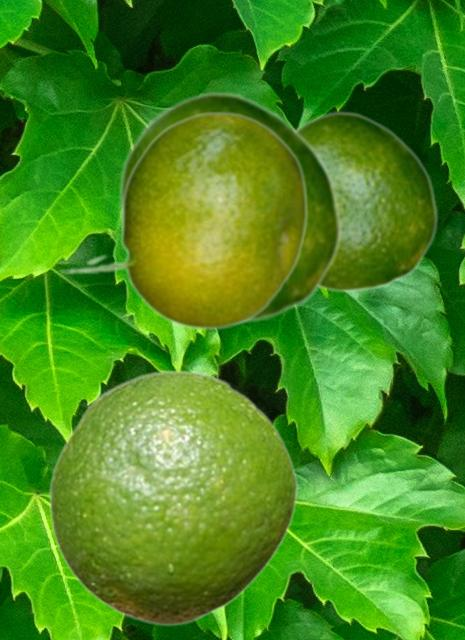calamansi: (48, 369, 297, 626), (58, 110, 307, 329), (117, 90, 342, 325), (297, 110, 438, 292)
